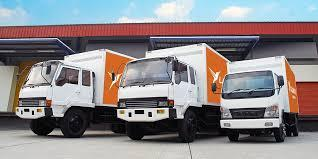truck: (111, 52, 203, 144), (13, 56, 104, 139), (212, 66, 292, 147)
